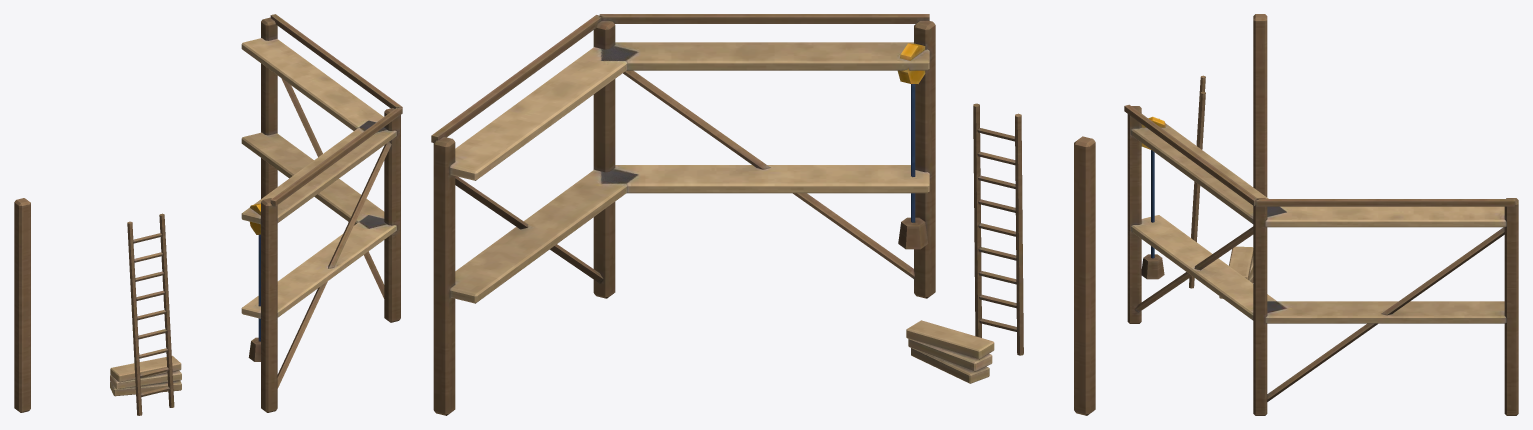
Rendered from site-frame.glb.
The picture shows the model from 3 angles, left to right: view 1: azimuth 30°, elevation 25°; view 2: azimuth 150°, elevation 25°; view 3: azimuth 270°, elevation 25°; orthographic projection. The views are drawn at different scales.
Parts seen in each view (by area): view 1: site-frame; view 2: site-frame; view 3: site-frame.
Boxes of the visible parts, x1=… form: site-frame: x1=14, y1=14, x2=402, y2=415; site-frame: x1=431, y1=14, x2=1095, y2=415; site-frame: x1=1124, y1=14, x2=1518, y2=415.
Size of the model in its own units: 1.91 by 1.01 by 1.67.
Materials: 1 (1 with a texture image).
